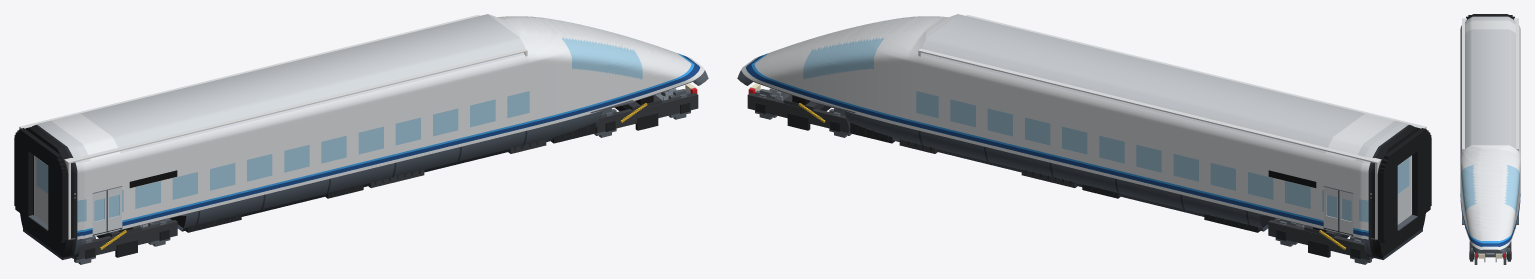
The model's file is avelia_front.obj.
3 renders of one model, left to right at view 1: azimuth 30°, elevation 25°; view 2: azimuth 150°, elevation 25°; view 3: azimuth 270°, elevation 25°, orthographic. The views are drawn at different scales.
Visible parts, largest first — view 1: SHELL, SHELL_diaphragm, SHELL_ceiling, BOGEY_FRONT, BOGEY_REAR, FRAME, CONNECTING_DOOR_1_CG_CR_TOGGLE_TL_0.98_Z, EXTERNAL_DOOR_3_CG_DR1_TOGGLE_TL_-0.44_X, EXTERNAL_DOOR_4_CG_DR1_TOGGLE_TL_0.44_X; view 2: SHELL, SHELL_diaphragm, SHELL_ceiling, BOGEY_FRONT, BOGEY_REAR, FRAME, CONNECTING_DOOR_1_CG_CR_TOGGLE_TL_0.98_Z, EXTERNAL_DOOR_6_CG_DL1_TOGGLE_TL_-0.44_X, EXTERNAL_DOOR_7_CG_DL1_TOGGLE_TL_0.44_X; view 3: SHELL, SHELL_ceiling, BOGEY_FRONT, BOGEY_FRONT_WHEEL_2, HEADLIGHT_1.
Boxes of the visible parts, box(x1,y1,x2,y2) form: SHELL: box(20, 14, 708, 259); SHELL_diaphragm: box(14, 128, 66, 242); SHELL_ceiling: box(22, 15, 525, 162); BOGEY_FRONT: box(595, 92, 698, 132); BOGEY_REAR: box(74, 220, 177, 259); FRAME: box(92, 122, 595, 235); CONNECTING_DOOR_1_CG_CR_TOGGLE_TL_0.98_Z: box(35, 156, 48, 224); EXTERNAL_DOOR_3_CG_DR1_TOGGLE_TL_-0.44_X: box(92, 190, 107, 234); EXTERNAL_DOOR_4_CG_DR1_TOGGLE_TL_0.44_X: box(107, 187, 121, 230); SHELL: box(737, 14, 1425, 259); SHELL_diaphragm: box(1379, 128, 1431, 242); SHELL_ceiling: box(920, 15, 1424, 162); BOGEY_FRONT: box(747, 93, 850, 132); BOGEY_REAR: box(1268, 220, 1371, 259); FRAME: box(850, 122, 1353, 235); CONNECTING_DOOR_1_CG_CR_TOGGLE_TL_0.98_Z: box(1397, 156, 1410, 224); EXTERNAL_DOOR_6_CG_DL1_TOGGLE_TL_-0.44_X: box(1338, 190, 1353, 234); EXTERNAL_DOOR_7_CG_DL1_TOGGLE_TL_0.44_X: box(1324, 187, 1338, 230); SHELL: box(1460, 14, 1520, 253); SHELL_ceiling: box(1462, 19, 1518, 148); BOGEY_FRONT: box(1469, 241, 1511, 261); BOGEY_FRONT_WHEEL_2: box(1474, 252, 1506, 264); HEADLIGHT_1: box(1478, 253, 1502, 258).
Size of the model in its own units: 22.16 by 3.95 by 3.02.
Materials: 1 (1 with a texture image).
